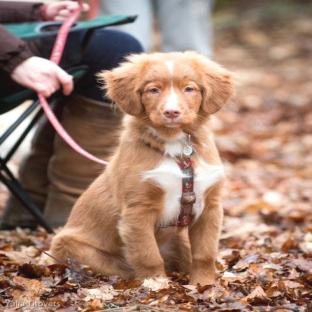Animal: (50, 51, 234, 286)
